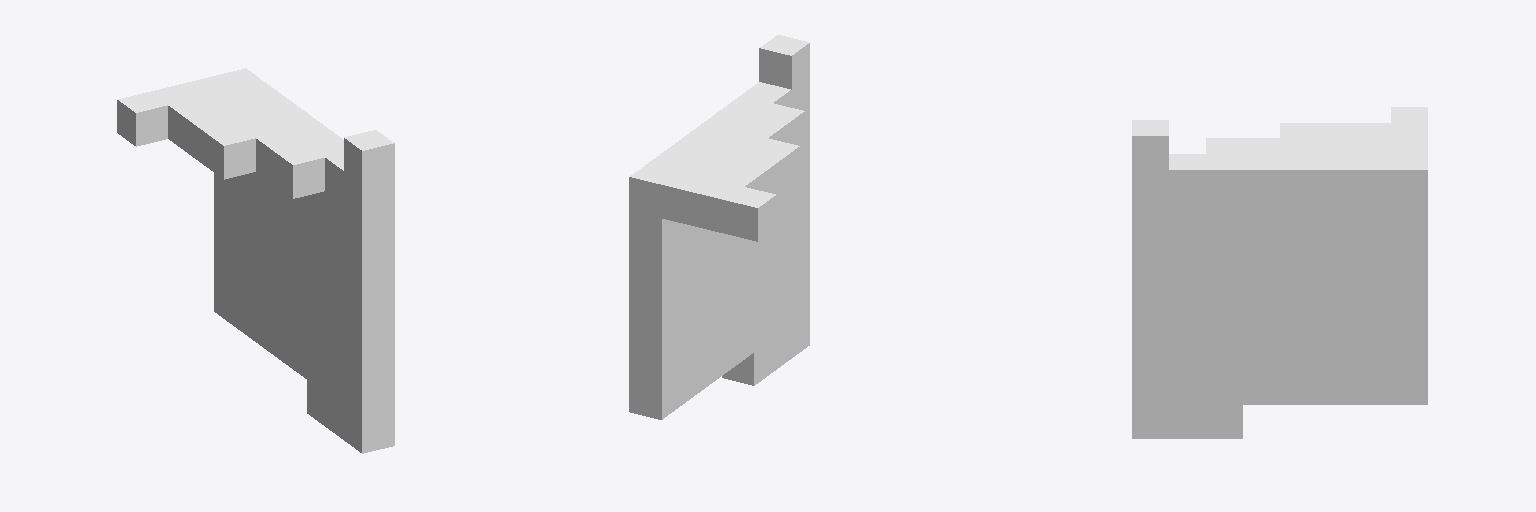
File: Koala_K.obj
3 views of the same model, side by side, from view 1: azimuth 30°, elevation 25°; view 2: azimuth 150°, elevation 25°; view 3: azimuth 270°, elevation 25° (orthographic).
Visible parts, largest first — view 1: object 1; view 2: object 1; view 3: object 1.
Part boxes in pixels (x1,y1,x2,y2): object 1: (117, 68, 394, 453); object 1: (629, 35, 809, 419); object 1: (1132, 107, 1427, 438).
Size of the model in its own units: 0.4 by 0.9 by 0.8.